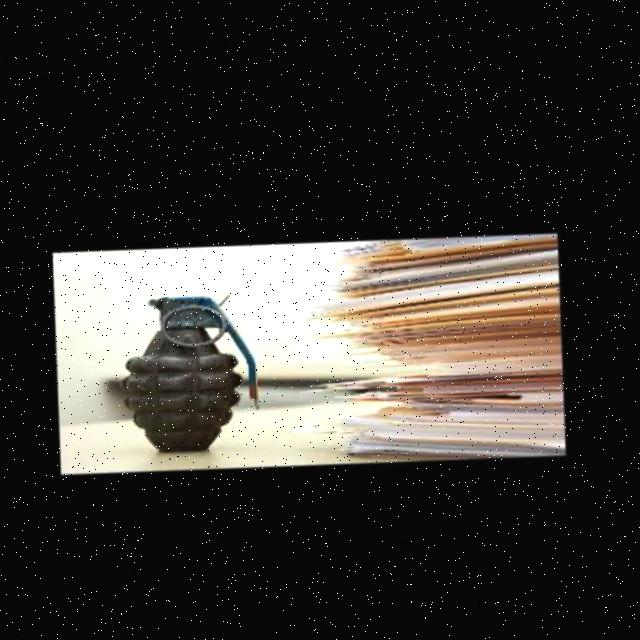grenade: (104, 278, 301, 476)
